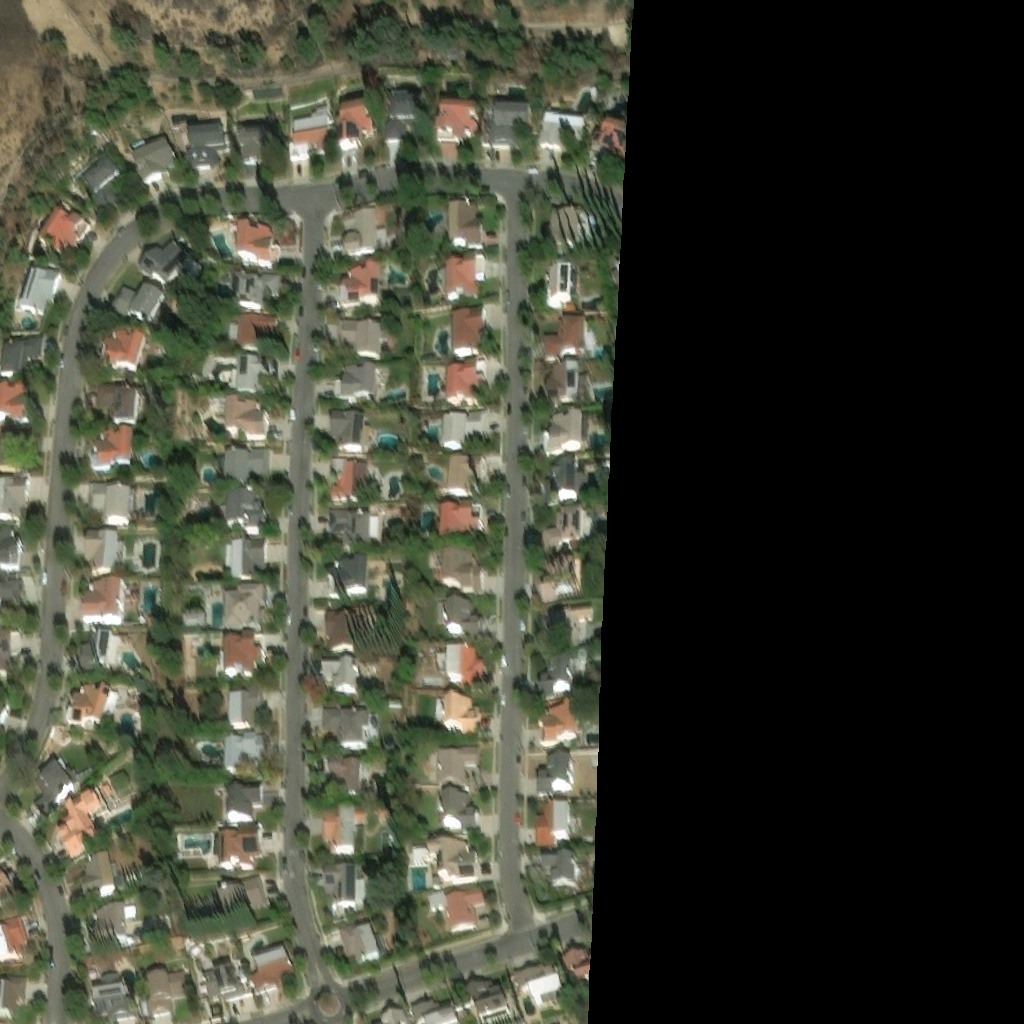0 no-damage: (56, 787, 108, 861), (111, 283, 181, 332), (509, 966, 564, 1023), (74, 149, 128, 205), (138, 237, 195, 288), (31, 753, 80, 811), (425, 886, 484, 934), (315, 866, 365, 920), (66, 687, 121, 736), (324, 922, 382, 968), (35, 203, 88, 252), (323, 709, 378, 755), (225, 103, 271, 157), (218, 876, 269, 924), (128, 129, 177, 178), (325, 252, 379, 296), (337, 200, 390, 244), (426, 841, 479, 885), (182, 101, 222, 159), (435, 643, 486, 688), (100, 329, 149, 374), (13, 260, 58, 308), (538, 607, 592, 647), (543, 509, 596, 549), (321, 811, 367, 857), (484, 101, 529, 148), (382, 93, 426, 140), (324, 306, 377, 345), (225, 207, 273, 250), (230, 256, 279, 298), (329, 508, 379, 549), (334, 354, 385, 394), (92, 972, 134, 1020), (78, 857, 120, 905), (225, 540, 273, 582), (546, 208, 586, 258), (218, 447, 268, 486), (78, 632, 123, 675), (89, 487, 136, 528), (540, 556, 584, 599), (433, 101, 478, 143), (437, 746, 485, 785), (147, 971, 189, 1015), (96, 909, 137, 954), (465, 982, 510, 1023), (226, 304, 274, 342), (86, 532, 127, 576), (223, 493, 267, 534), (199, 966, 245, 1005), (224, 732, 266, 774), (219, 828, 260, 871), (94, 434, 136, 475), (97, 387, 139, 428), (224, 397, 266, 438), (251, 951, 291, 994), (224, 587, 264, 630), (322, 763, 365, 803), (326, 609, 366, 652), (444, 255, 484, 298), (543, 319, 587, 358), (538, 111, 583, 149), (441, 549, 482, 590), (83, 584, 123, 626), (441, 403, 484, 442), (434, 694, 478, 732), (539, 705, 579, 746), (224, 634, 263, 676), (544, 462, 584, 502), (234, 348, 272, 390), (229, 683, 266, 726), (538, 656, 574, 700), (535, 804, 571, 848), (448, 302, 483, 347), (439, 500, 480, 538), (588, 114, 623, 158), (227, 786, 275, 818), (542, 850, 581, 889), (443, 356, 483, 394), (0, 328, 41, 365), (329, 458, 366, 499), (447, 203, 482, 246), (330, 558, 369, 596), (544, 413, 581, 453), (333, 96, 369, 137), (446, 449, 482, 490), (329, 404, 362, 448), (0, 912, 29, 962), (321, 658, 359, 696), (545, 363, 578, 406), (440, 792, 476, 831), (537, 755, 572, 795), (0, 376, 32, 419), (546, 267, 576, 312), (0, 624, 27, 670), (0, 474, 28, 518), (0, 976, 26, 1021), (411, 1000, 459, 1023), (0, 855, 24, 899), (437, 599, 479, 623), (284, 116, 324, 141), (288, 95, 324, 117), (0, 575, 20, 603), (181, 610, 206, 628), (378, 809, 392, 831), (381, 1012, 407, 1023)
